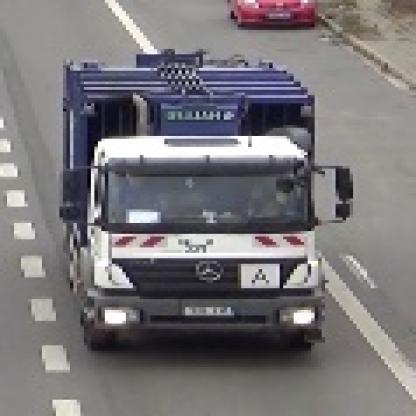truck: (54, 47, 354, 357)
